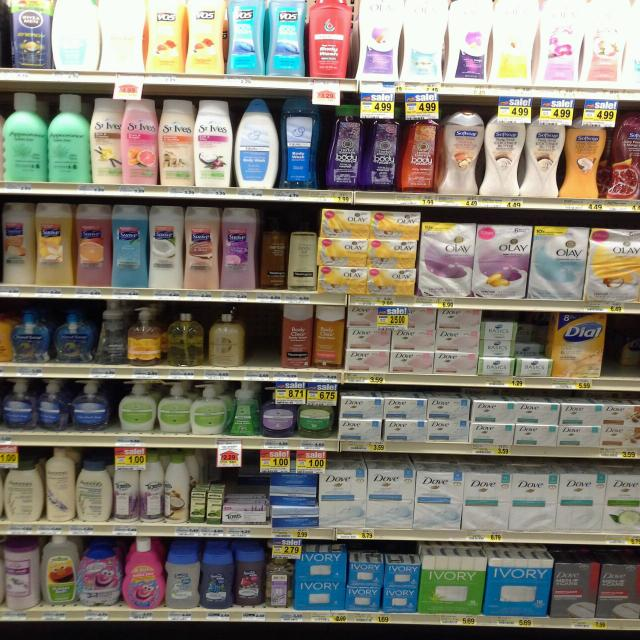unorganised: (38, 380, 71, 431), (518, 328, 542, 355)
